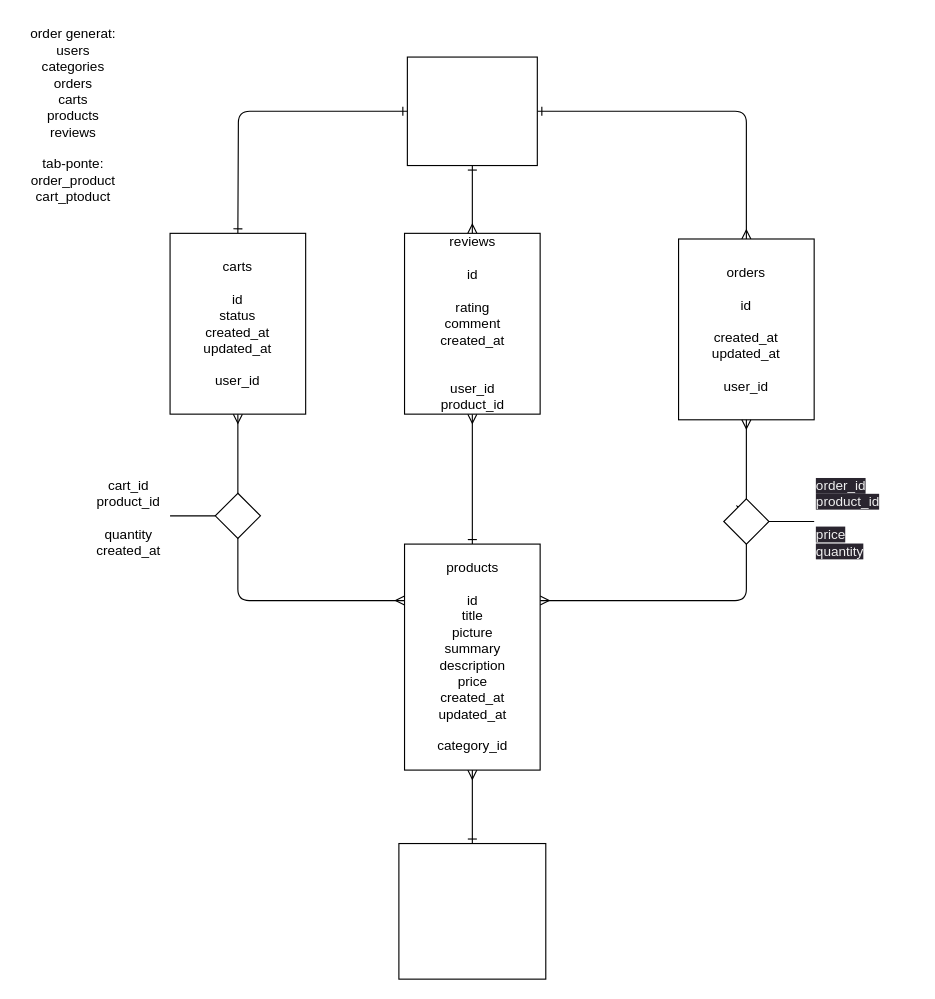
Some shapes in this 935 by 999 pixel diagram are drawn without their labels. The box of each missing label's shape, as (x1, y1, x2, y2) in pixels:
categories id name description created_at updated_at: (398, 842, 546, 979)
users phone role: (406, 56, 537, 166)
